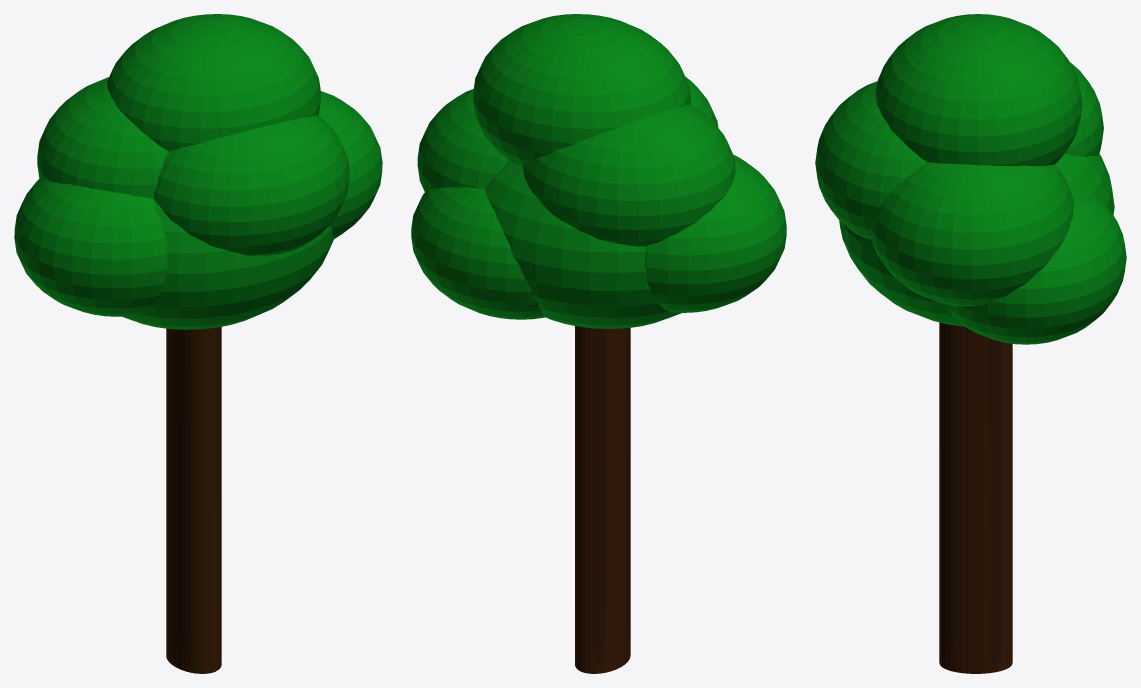
File: tree.glb
3 renders of one model, left to right at view 1: azimuth 30°, elevation 25°; view 2: azimuth 150°, elevation 25°; view 3: azimuth 270°, elevation 25°, orthographic. The views are drawn at different scales.
Parts seen in each view (by area): view 1: Sphere.005, Sphere.004, Cylinder, Sphere.001, Sphere, Sphere.006, Sphere.003; view 2: Sphere.005, Sphere.006, Cylinder, Sphere, Sphere.001, Sphere.002, Sphere.003; view 3: Sphere.005, Cylinder, Sphere.003, Sphere.002, Sphere.004, Sphere, Sphere.006.
Part boxes in pixels (x1,y1,x2,y2): Sphere.005: (107,14,320,151); Sphere.004: (154,115,349,255); Cylinder: (166,327,221,673); Sphere.001: (14,178,167,316); Sphere: (122,198,334,329); Sphere.006: (37,77,168,198); Sphere.003: (318,91,382,238); Sphere.005: (473,14,690,165); Sphere.006: (522,104,735,246); Cylinder: (575,326,630,673); Sphere: (484,160,681,328); Sphere.001: (645,155,786,312); Sphere.002: (411,187,544,319); Sphere.003: (417,89,508,191); Sphere.005: (875,14,1082,166); Cylinder: (939,322,1012,673); Sphere.003: (870,162,1074,306); Sphere.002: (948,197,1126,344); Sphere.004: (815,81,926,239); Sphere: (839,153,1114,326); Sphere.006: (1064,62,1103,156).
Bounding box in the file's own units: 3.66 × 6.38 × 2.79.
5 materials, 5 textured.
